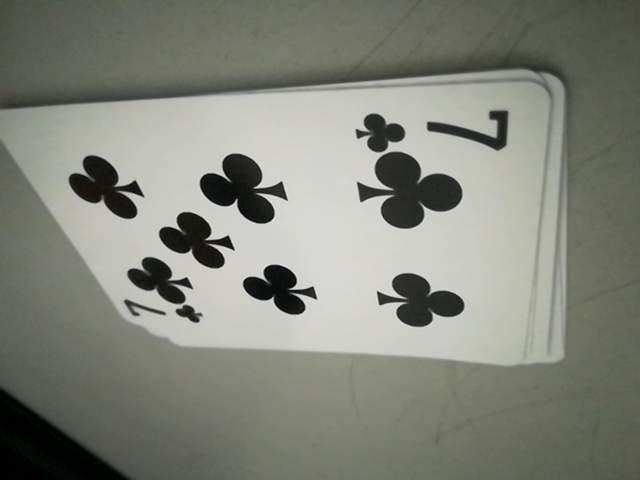mh 7: (351, 97, 518, 153), (117, 295, 201, 333)
